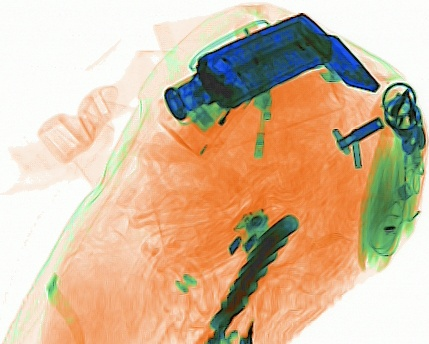lighter: (195, 87, 253, 161)
powerbank: (200, 210, 297, 342)
